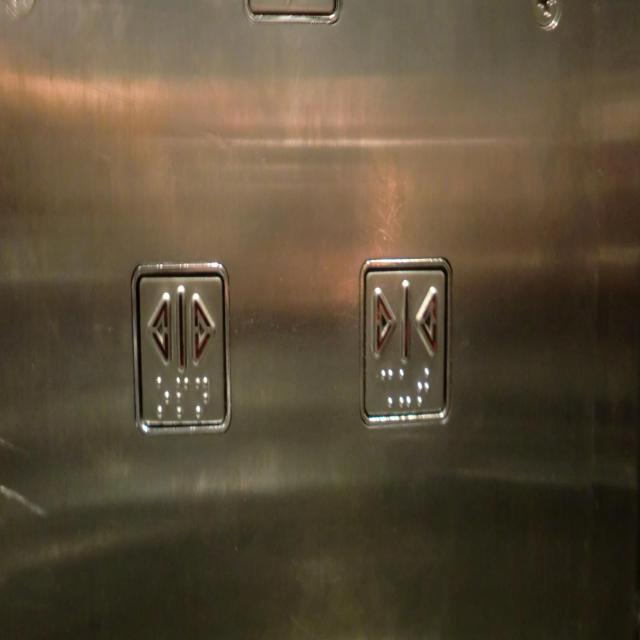close: (356, 252, 455, 436)
open: (128, 256, 233, 441)
